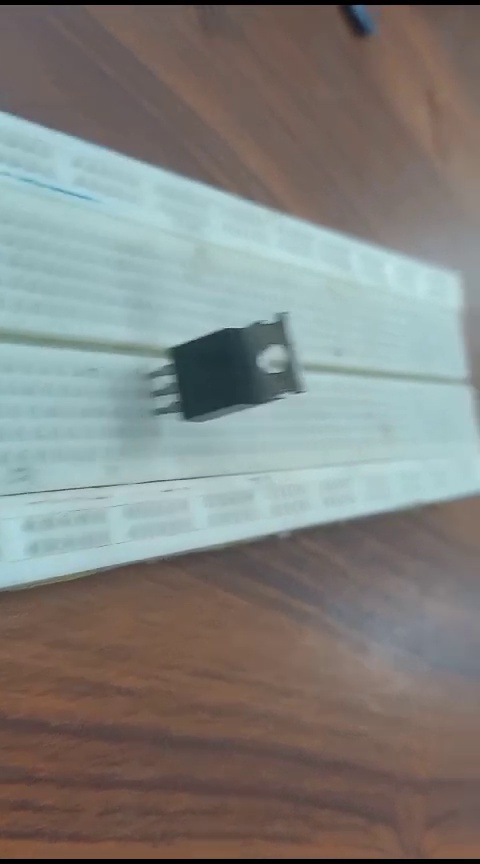voltage regulator: (148, 312, 306, 431)
